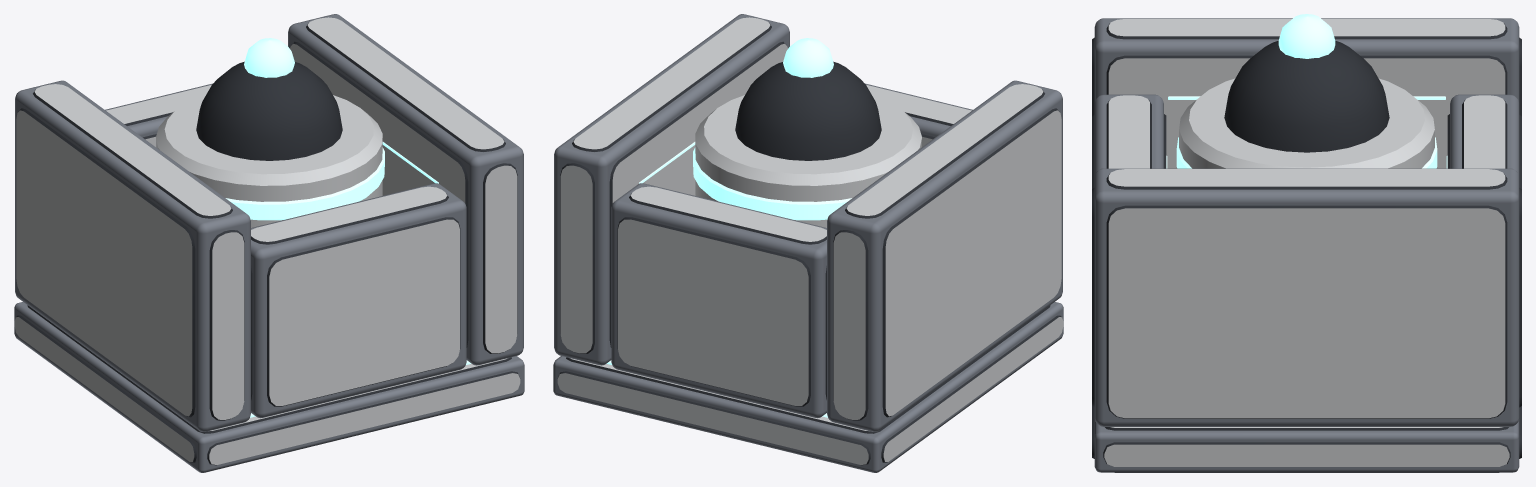
File: R4X_DeployableShieldGenerator.fbx
3 views of the same model, side by side, from view 1: azimuth 30°, elevation 25°; view 2: azimuth 150°, elevation 25°; view 3: azimuth 270°, elevation 25° (orthographic). The views are drawn at different scales.
Parts seen in each view (by area): view 1: R4X_DeployableShieldGenerator_Body, R4X_DeployableShieldGenerator_Payload; view 2: R4X_DeployableShieldGenerator_Body, R4X_DeployableShieldGenerator_Payload; view 3: R4X_DeployableShieldGenerator_Body, R4X_DeployableShieldGenerator_Payload.
Part boxes in pixels (x1,y1,x2,y2): R4X_DeployableShieldGenerator_Body: (14, 14, 524, 472); R4X_DeployableShieldGenerator_Payload: (156, 38, 384, 227); R4X_DeployableShieldGenerator_Body: (553, 14, 1063, 472); R4X_DeployableShieldGenerator_Payload: (693, 38, 921, 227); R4X_DeployableShieldGenerator_Body: (1092, 18, 1521, 472); R4X_DeployableShieldGenerator_Payload: (1176, 14, 1437, 168).
Bounding box in the file's own units: 0.52 × 0.495 × 0.52.
